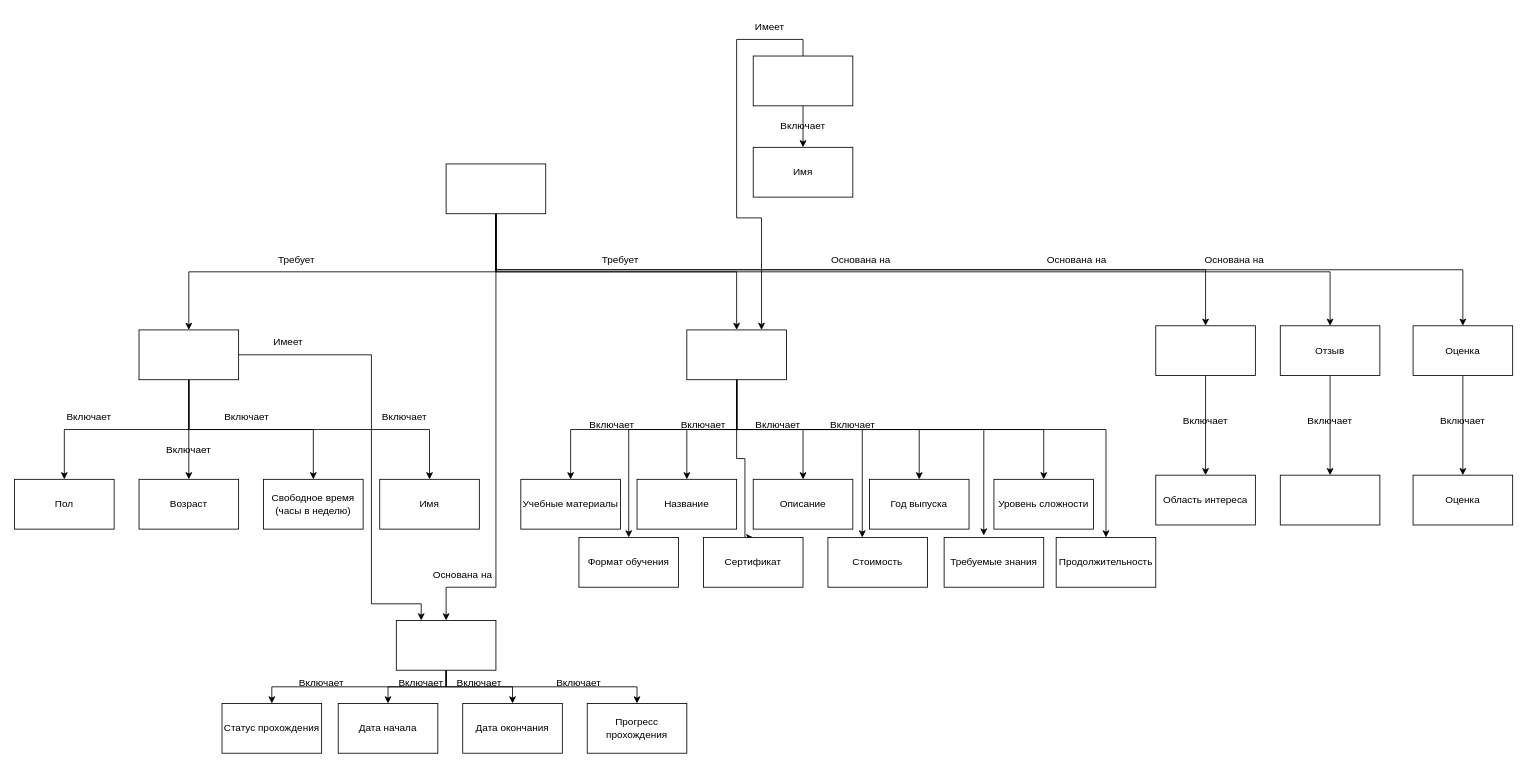
This 1527x768 diagram has some shape labels left out. Each missing label, with the centre of its shape:
Автор: the point at 802,80
Запись о прохождении: the point at 445,645
Интересы: the point at 1205,350
Курс: the point at 736,354
Рекомендация: the point at 495,188
Текст: the point at 1329,499
Человек: the point at 188,354
